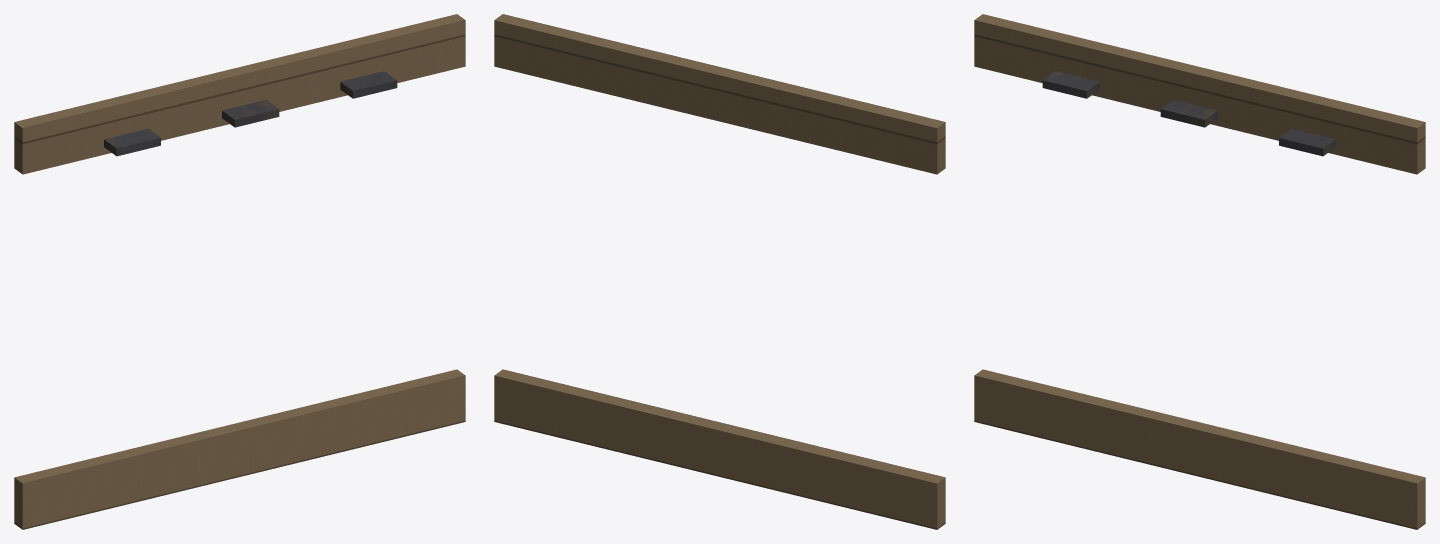
The model's file is weapon_board.glb.
3 renders of one model, left to right at view 1: azimuth 30°, elevation 25°; view 2: azimuth 150°, elevation 25°; view 3: azimuth 330°, elevation 25°, orthographic.
Visible parts, largest first — view 1: weapon_board; view 2: weapon_board; view 3: weapon_board.
Part boxes in pixels (x1,y1,x2,y2): weapon_board: (14,14,465,529); weapon_board: (494,14,945,529); weapon_board: (974,14,1425,529).
Size of the model in its own units: 1.2 by 1.04 by 0.1.
Materials: 2 (2 with a texture image).
